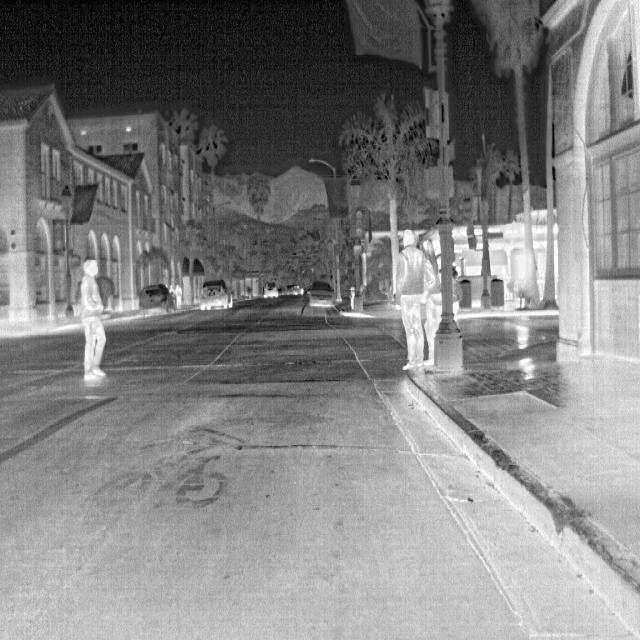Pedestrian: (394, 228, 435, 372), (73, 258, 109, 382), (419, 237, 444, 369), (175, 284, 182, 308)
Vehicle: (198, 278, 233, 312), (138, 281, 174, 314), (308, 281, 336, 310)
